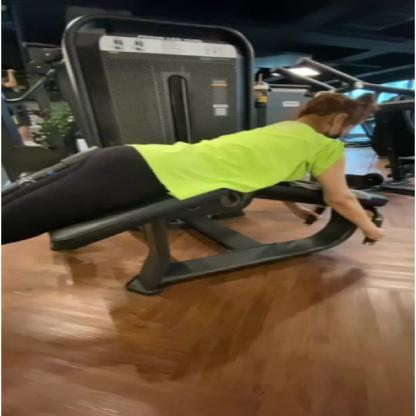reg curl machine: (0, 11, 393, 294)
